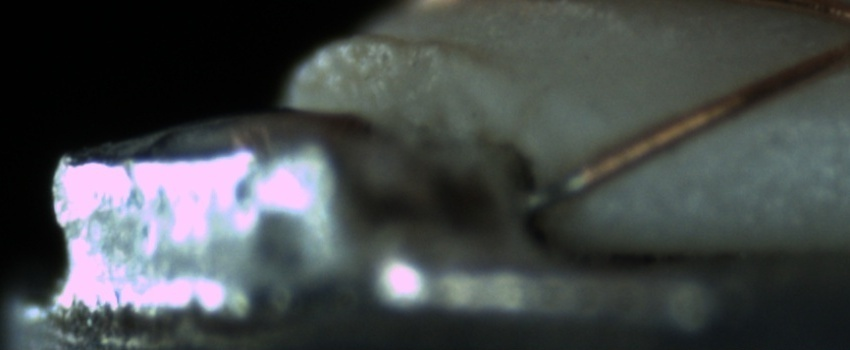TS: (520, 166, 586, 215)
TTCW: (521, 151, 602, 218)
